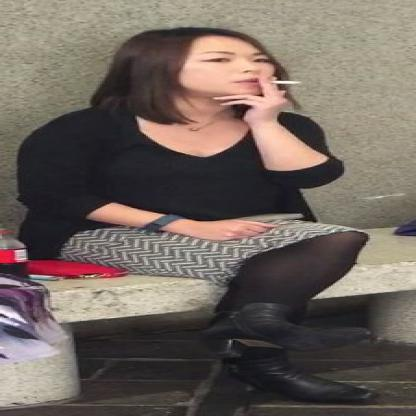smoking: (261, 81, 301, 84)
